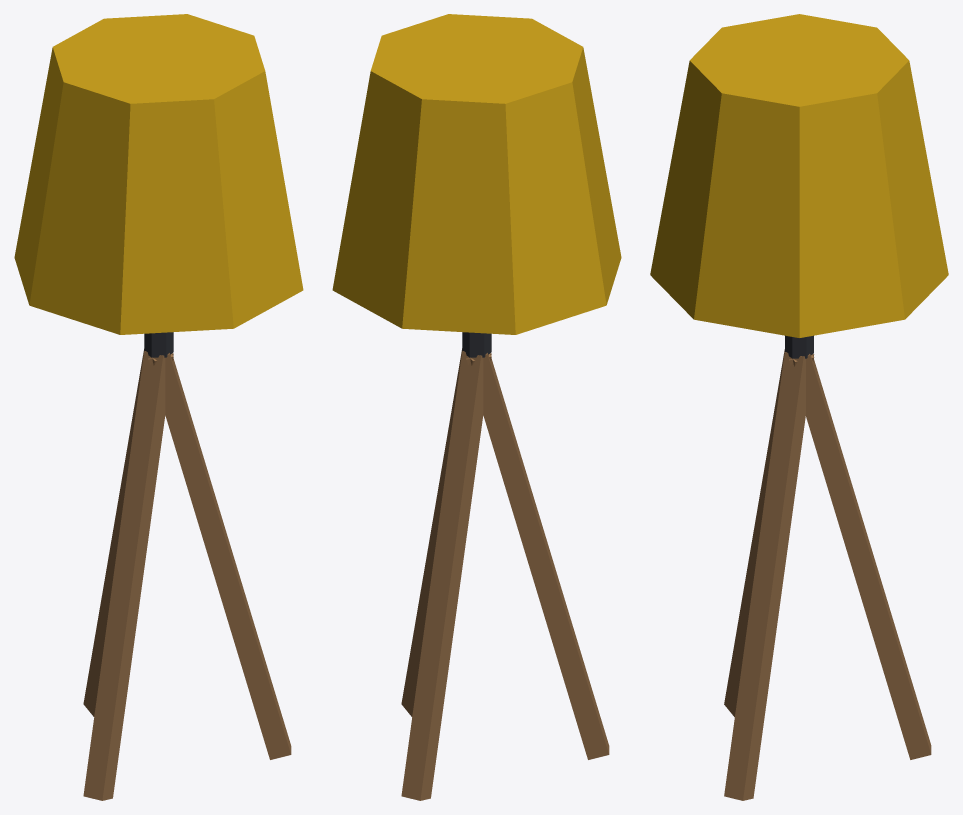
The model's file is table-lamp-38.glb.
3 renders of one model, left to right at view 1: azimuth 30°, elevation 25°; view 2: azimuth 150°, elevation 25°; view 3: azimuth 270°, elevation 25°, orthographic.
Visible parts, largest first — view 1: table_lamp_38; view 2: table_lamp_38; view 3: table_lamp_38.
Boxes of the visible parts, x1=… form: table_lamp_38: x1=14, y1=14, x2=303, y2=800; table_lamp_38: x1=332, y1=14, x2=621, y2=800; table_lamp_38: x1=650, y1=14, x2=948, y2=800.
Size of the model in its own units: 0.246 by 0.6318 by 0.246.
